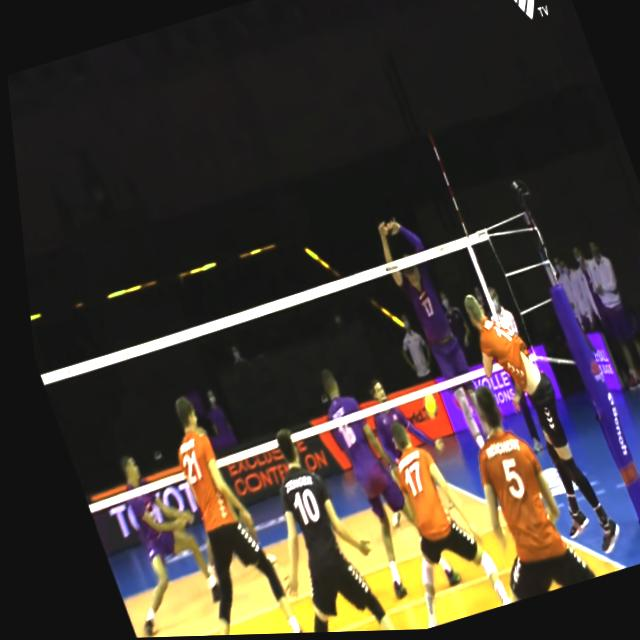player: (448, 275, 616, 569), (116, 382, 304, 638), (300, 351, 450, 607), (364, 208, 506, 478), (219, 415, 390, 636), (345, 408, 505, 631), (433, 377, 587, 605), (73, 441, 215, 633), (351, 369, 442, 479)
